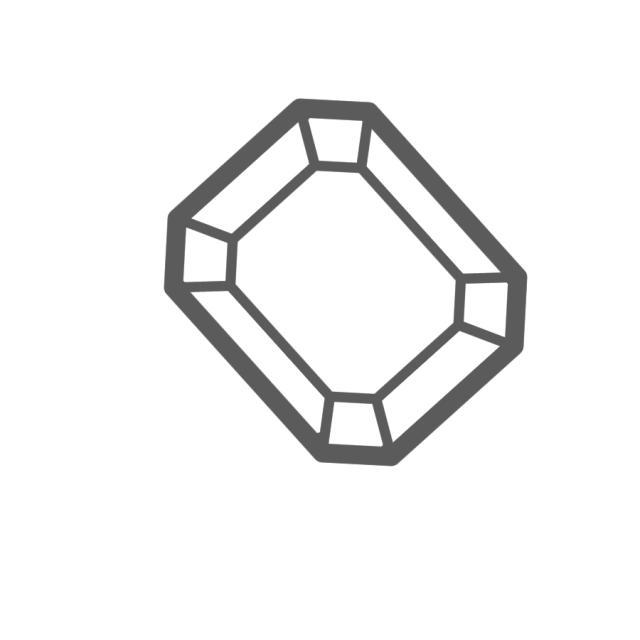emerald: (154, 91, 535, 476)
